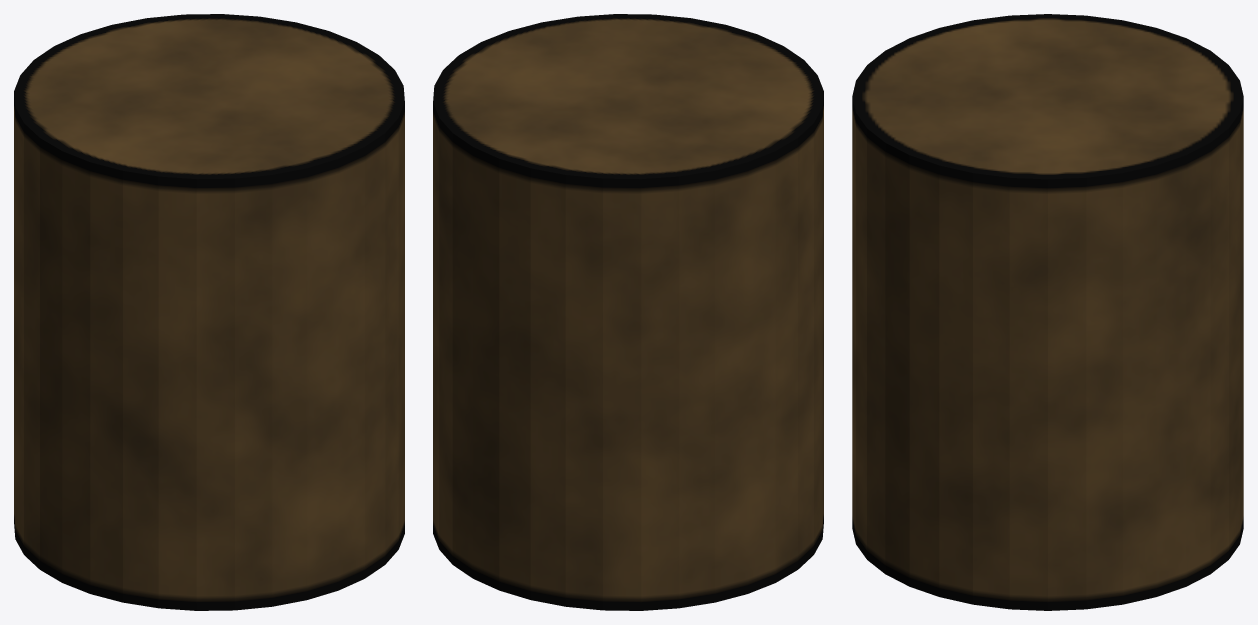
File: Hanger _ crown stud__n2.glb
3 views of the same model, side by side, from view 1: azimuth 30°, elevation 25°; view 2: azimuth 150°, elevation 25°; view 3: azimuth 270°, elevation 25° (orthographic).
Parts seen in each view (by area): view 1: Hanger | crown stud; view 2: Hanger | crown stud; view 3: Hanger | crown stud.
Boxes of the visible parts, x1,y1,x2,y2 form: Hanger | crown stud: (14, 14, 404, 610); Hanger | crown stud: (433, 14, 823, 610); Hanger | crown stud: (852, 14, 1243, 610).
Bounding box in the file's own units: 0.074 × 0.09 × 0.074.
Materials: 1 (1 with a texture image).
